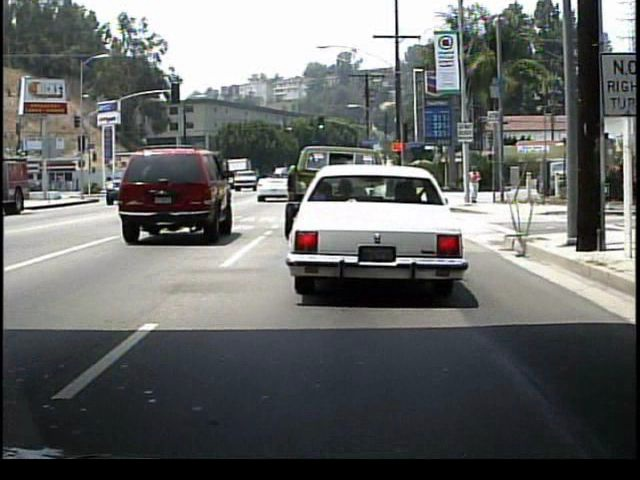person: (470, 167, 483, 206)
